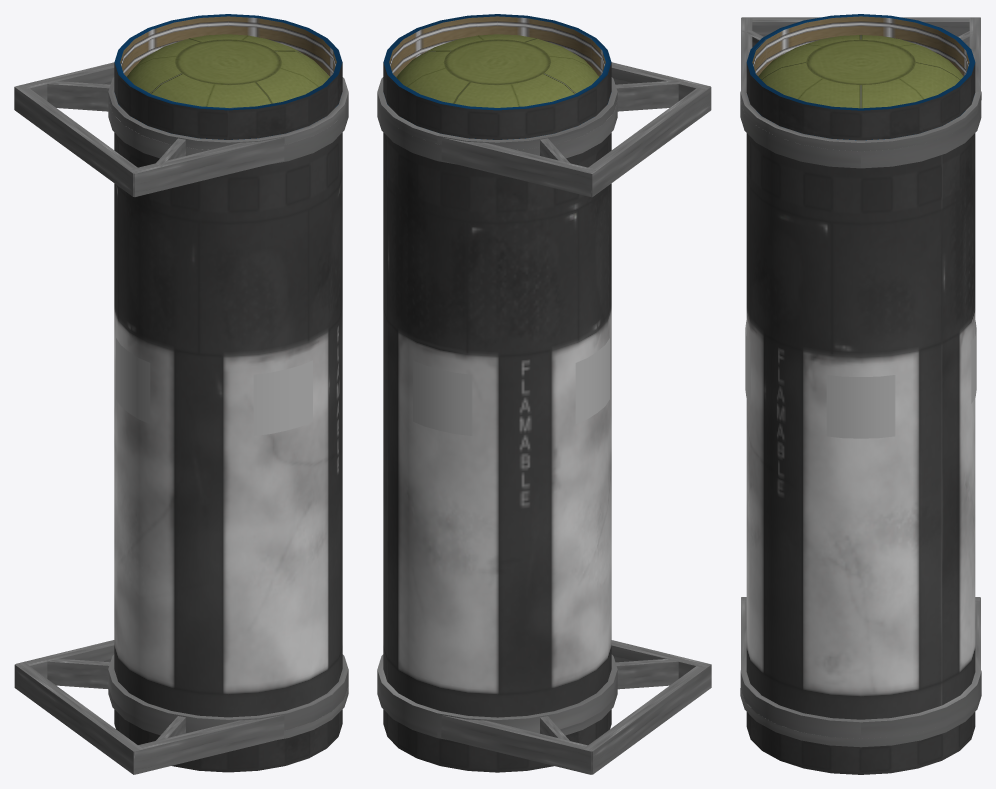
Rendered from FLM-1800M.FBX.
The picture shows the model from 3 angles, left to right: view 1: azimuth 30°, elevation 25°; view 2: azimuth 150°, elevation 25°; view 3: azimuth 270°, elevation 25°; orthographic projection.
Parts seen in each view (by area): view 1: TankBody, TankSleeve001, EndCap001, TankSleeve002, Box006, Box007, Box011, Box003, MountingBracketBand002, decalPanel001, BarrelBand003, MountingBracketBand001 (+6 smaller); view 2: TankBody, TankSleeve001, EndCap001, TankSleeve002, Box001, Box010, Box011, Box003, MountingBracketBand002, decalPanel003, BarrelBand003, MountingBracketBand001 (+6 smaller); view 3: TankBody, TankSleeve001, EndCap001, TankSleeve002, MountingBracketBand002, decalPanel002, MountingBracketBand001, BarrelBand003, BarrelBand002, Box003, Box001, Box006.
Part boxes in pixels (<box>): TankBody: <box>114,132,342,717</box>; TankSleeve001: <box>114,14,342,139</box>; EndCap001: <box>118,34,338,139</box>; TankSleeve002: <box>114,709,342,772</box>; Box006: <box>129,137,284,196</box>; Box007: <box>129,715,284,774</box>; Box011: <box>14,662,142,774</box>; Box003: <box>14,84,137,196</box>; MountingBracketBand002: <box>108,654,348,733</box>; decalPanel001: <box>253,360,312,435</box>; BarrelBand003: <box>108,77,348,149</box>; MountingBracketBand001: <box>108,101,348,164</box>; TankBody: <box>383,132,611,717</box>; TankSleeve001: <box>383,14,611,139</box>; EndCap001: <box>387,34,607,139</box>; TankSleeve002: <box>383,709,611,772</box>; Box001: <box>441,137,596,196</box>; Box010: <box>441,715,591,774</box>; Box011: <box>583,664,711,774</box>; Box003: <box>586,87,711,197</box>; MountingBracketBand002: <box>377,654,617,733</box>; decalPanel003: <box>413,360,472,435</box>; BarrelBand003: <box>377,77,617,149</box>; MountingBracketBand001: <box>377,101,617,164</box>; TankBody: <box>746,133,975,719</box>; TankSleeve001: <box>746,14,975,140</box>; EndCap001: <box>757,35,964,140</box>; TankSleeve002: <box>746,712,975,774</box>; MountingBracketBand002: <box>740,656,981,738</box>; decalPanel002: <box>826,375,895,438</box>; MountingBracketBand001: <box>740,100,981,168</box>; BarrelBand003: <box>740,77,981,151</box>; BarrelBand002: <box>740,688,981,747</box>; Box003: <box>742,17,980,36</box>; Box001: <box>969,17,980,89</box>; Box006: <box>741,17,752,89</box>.
Size of what is drawn, in the model's own units: 1.63 by 1.32 by 4.
